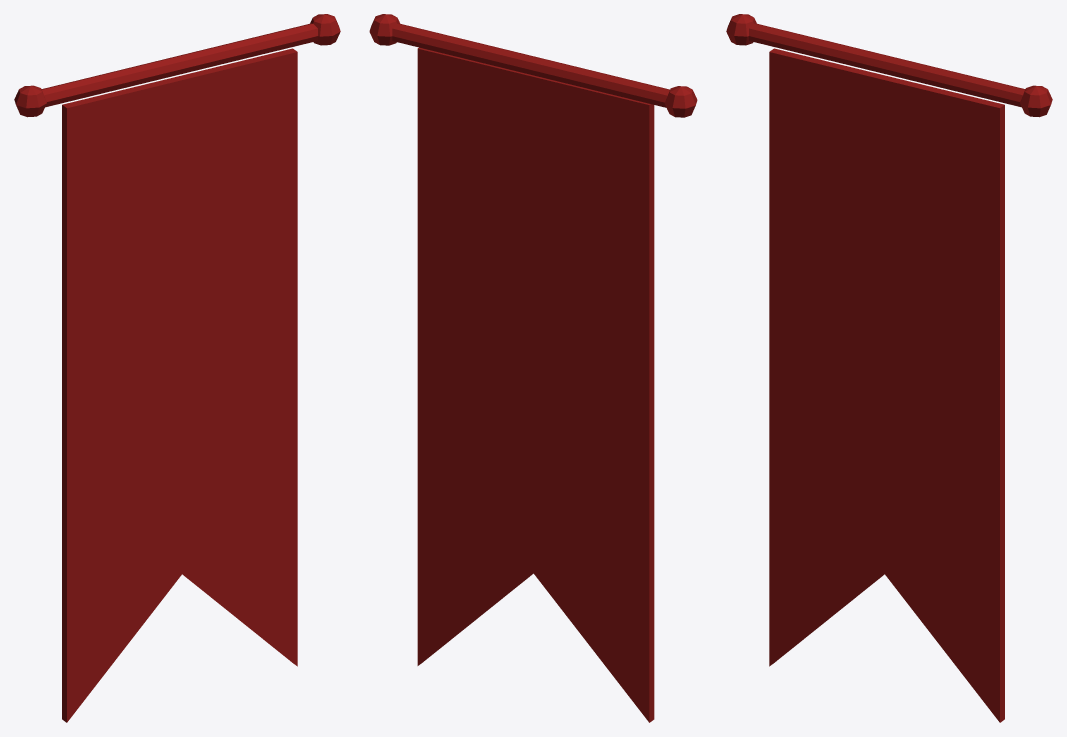
File: SM_Banner_01.fbx
3 renders of one model, left to right at view 1: azimuth 30°, elevation 25°; view 2: azimuth 150°, elevation 25°; view 3: azimuth 330°, elevation 25°, orthographic.
Visible parts, largest first — view 1: SM_Banner_01; view 2: SM_Banner_01; view 3: SM_Banner_01.
Boxes of the visible parts, left/top/right/bottom form: SM_Banner_01: left=14, top=14, right=340, bottom=722; SM_Banner_01: left=369, top=14, right=697, bottom=722; SM_Banner_01: left=726, top=14, right=1052, bottom=722.
Bounding box in the file's own units: 1.54 × 2.92 × 0.14.
